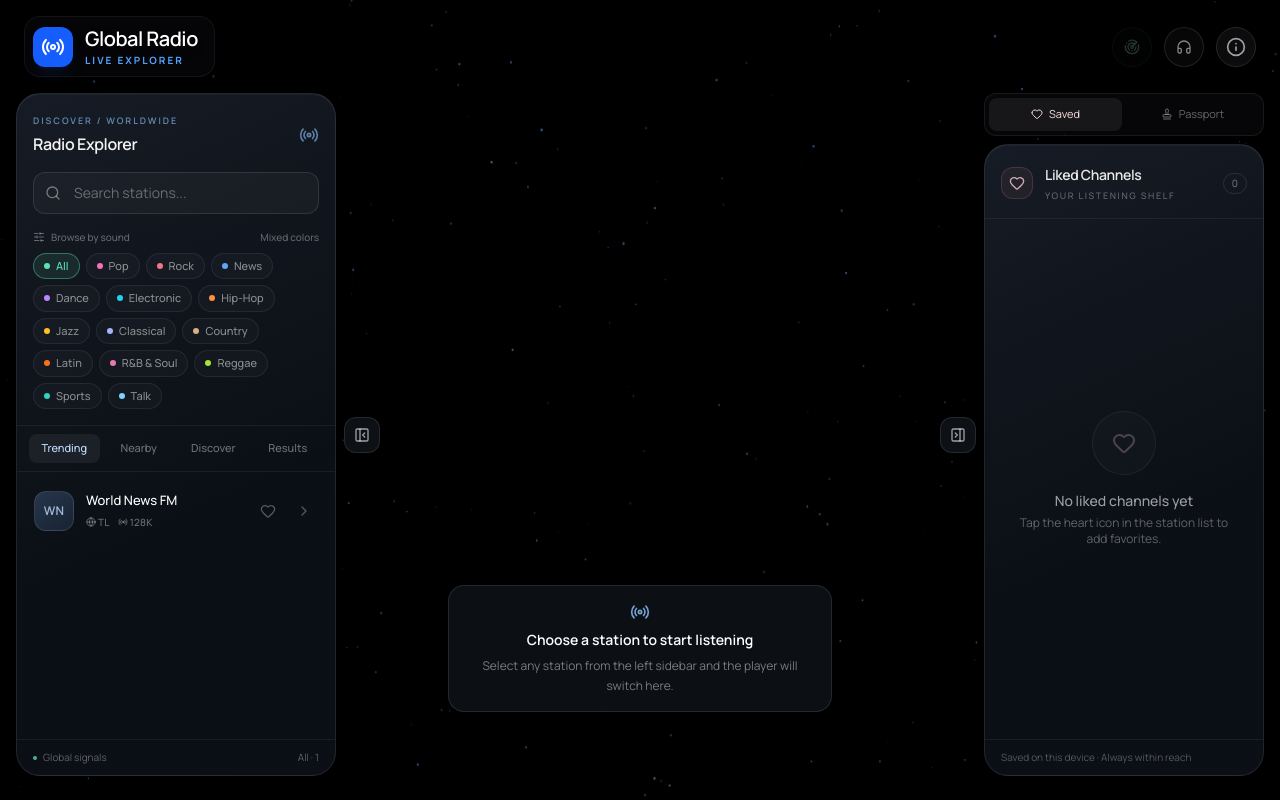
App › refreshes the list for a search term and shows an empty results view when the input is cleared
The image size is (1280, 800).
Expected: the heading "World News FM" is shown, [86,491,177,509]
Type "jazz" into the field with placeholder "Search stations..." at [176, 192], box [33,172,319,214]
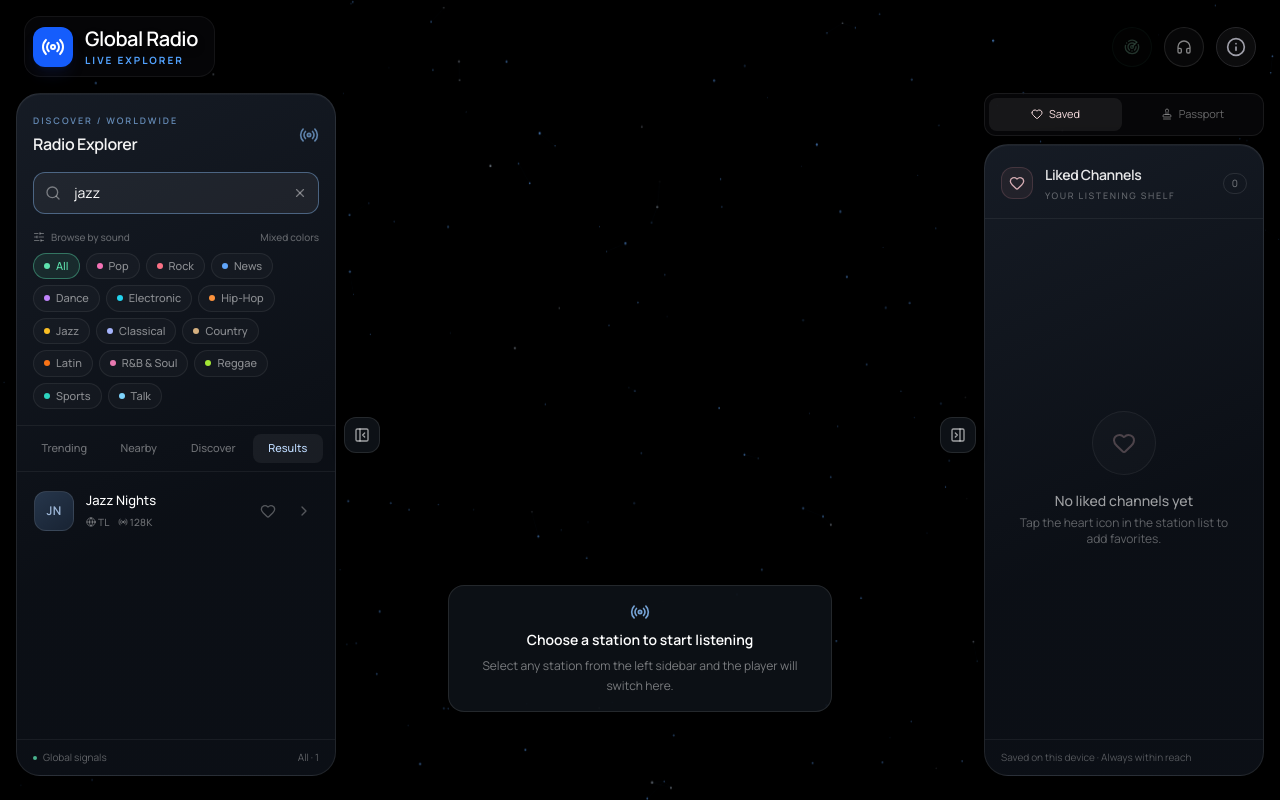
Expected: the heading "Jazz Nights" is shown, [86,491,156,509]
Expected: the button "World News FM" is gone
Clear the field with placeholder "Search stations..." at [176, 192], box [33,172,319,214]
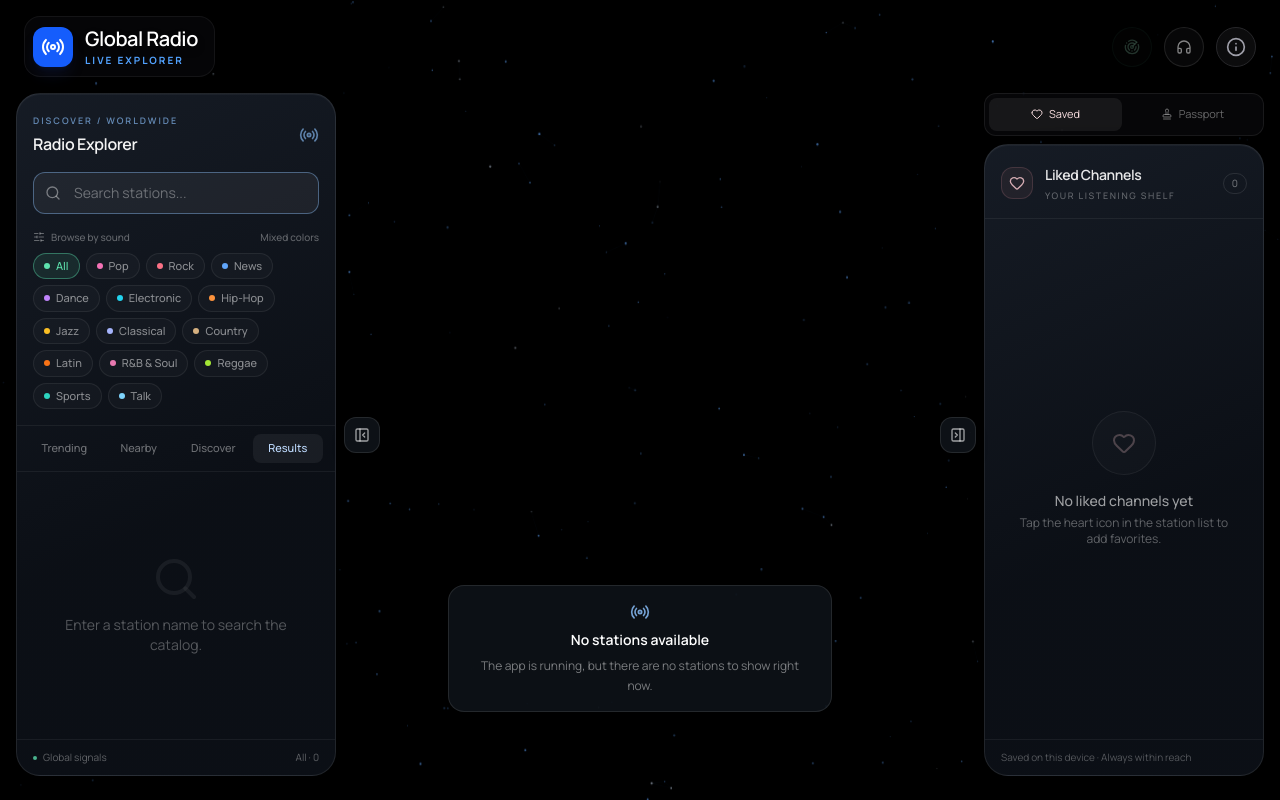
Expected: the button "World News FM" is not shown
Expected: the text "Enter a station name to search the catalog." is shown, [57,615,295,655]
Expected: the button "Jazz Nights" is gone
Click the button "Trending" at [64, 448], box [29,434,100,462]
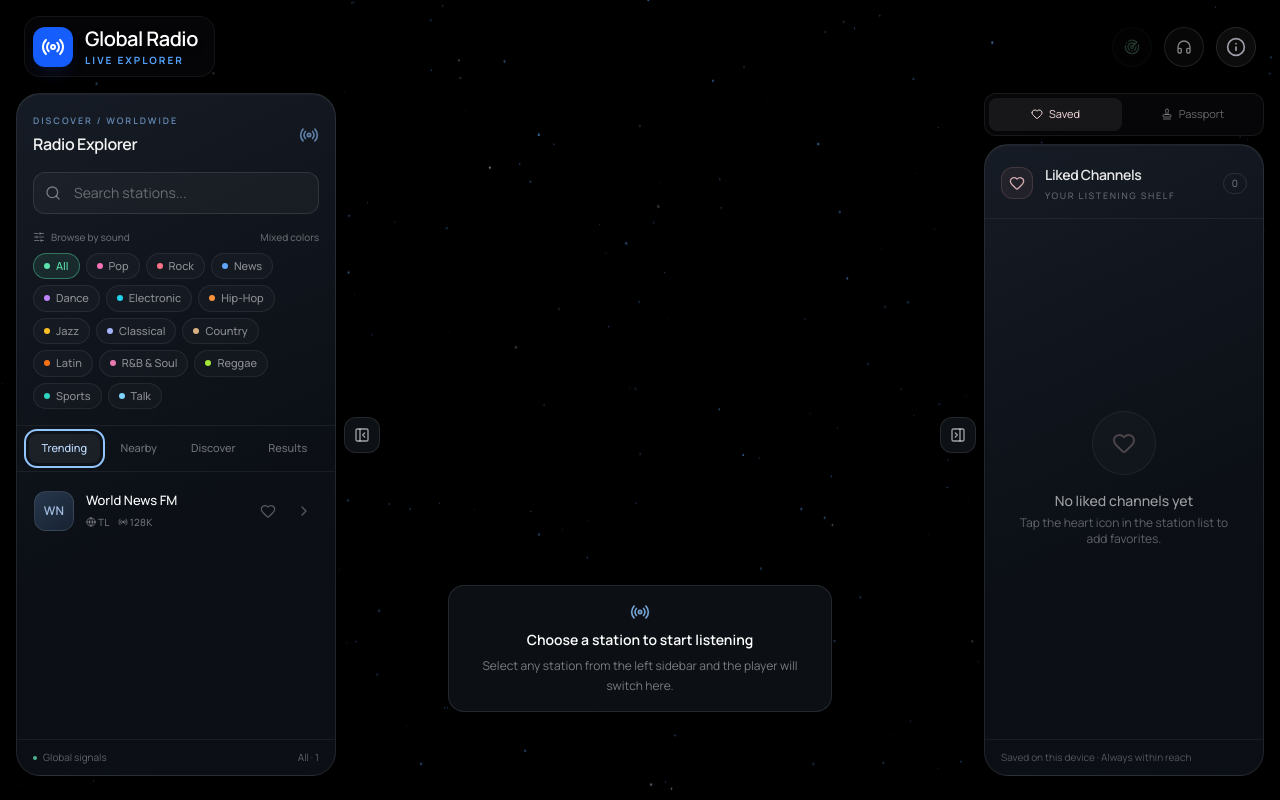
Expected: the heading "World News FM" is shown, [86,491,177,509]
